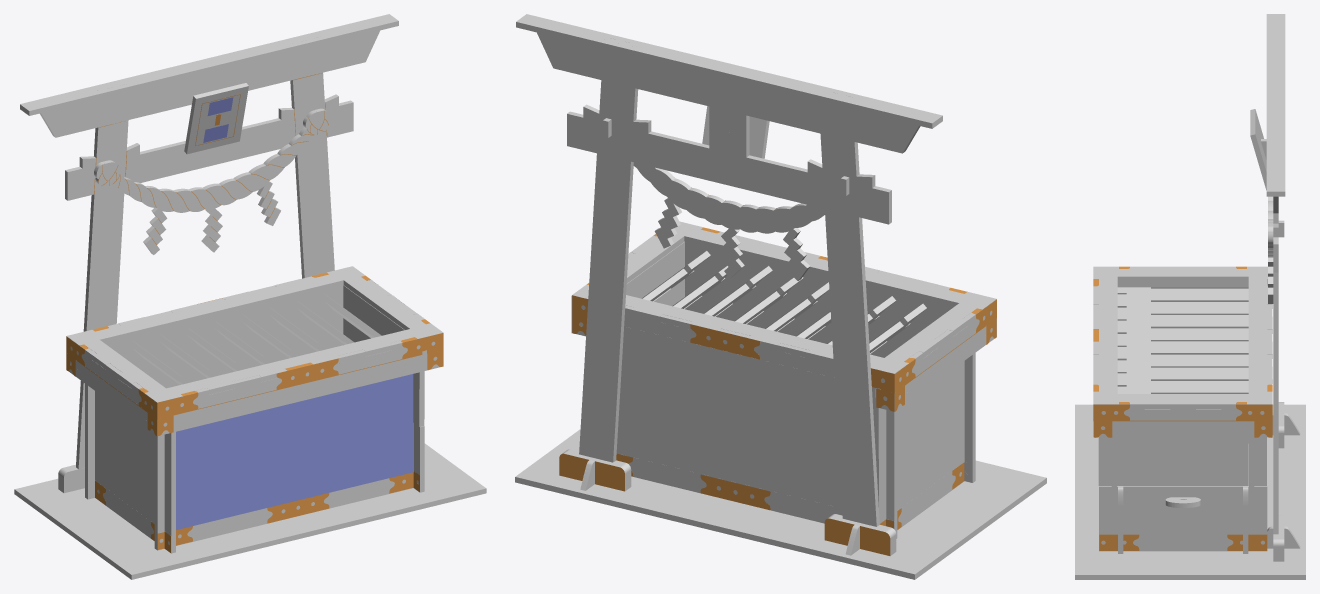
The model's file is saisenglb3.glb.
3 renders of one model, left to right at view 1: azimuth 30°, elevation 25°; view 2: azimuth 150°, elevation 25°; view 3: azimuth 270°, elevation 25°, orthographic. The views are drawn at different scales.
Visible parts, largest first — view 1: 本体.001, 刻印３(大きな文字), 本体.049, 本体.008, 本体, 本体.027, 茶色, 本体.025, 本体.004, 本体.024, 本体.009, 本体.002 (+4 smaller); view 2: 本体.001, 本体, 本体.049, 本体.008, 本体.002, 本体.027, 茶色, 本体.048, 本体.025, 本体.024, 本体.009, 本体.034 (+3 smaller); view 3: 本体.009, 本体.049, 本体.038, 本体.008, 本体.037, 本体.033, 本体.024, 茶色, 本体.001, 本体.027, 本体.005, 本体.025 (+7 smaller).
Part boxes in pixels (left/top/right/bottom): 本体.001: left=40, top=30, right=380, bottom=492; 刻印３(大きな文字): left=176, top=374, right=413, bottom=529; 本体.049: left=14, top=443, right=486, bottom=579; 本体.008: left=66, top=266, right=443, bottom=402; 本体: left=75, top=285, right=343, bottom=499; 本体.027: left=95, top=391, right=178, bottom=553; 茶色: left=66, top=73, right=443, bottom=552; 本体.025: left=94, top=108, right=330, bottom=254; 本体.004: left=157, top=338, right=443, bottom=435; 本体.024: left=20, top=14, right=398, bottom=115; 本体.009: left=132, top=293, right=381, bottom=385; 本体.002: left=145, top=371, right=424, bottom=550; 本体.001: left=537, top=32, right=920, bottom=553; 本体: left=616, top=345, right=907, bottom=538; 本体.049: left=515, top=429, right=1046, bottom=579; 本体.008: left=572, top=221, right=996, bottom=373; 本体.002: left=685, top=242, right=986, bottom=482; 本体.027: left=872, top=361, right=964, bottom=529; 茶色: left=559, top=187, right=996, bottom=555; 本体.048: left=572, top=301, right=897, bottom=411; 本体.025: left=633, top=162, right=824, bottom=280; 本体.024: left=516, top=14, right=942, bottom=128; 本体.009: left=642, top=251, right=926, bottom=353; 本体.034: left=894, top=310, right=996, bottom=409; 本体.009: left=1117, top=287, right=1248, bottom=393; 本体.049: left=1075, top=404, right=1305, bottom=579; 本体.038: left=1099, top=484, right=1267, bottom=551; 本体.008: left=1093, top=266, right=1272, bottom=408; 本体.037: left=1098, top=437, right=1266, bottom=485; 本体.033: left=1093, top=402, right=1266, bottom=437; 本体.024: left=1266, top=14, right=1285, bottom=196; 茶色: left=1093, top=266, right=1272, bottom=550; 本体.001: left=1273, top=48, right=1278, bottom=561; 本体.027: left=1117, top=281, right=1248, bottom=287; 本体.005: left=1250, top=109, right=1266, bottom=190; 本体.025: left=1268, top=196, right=1273, bottom=303.
Bounding box in the file's own units: 156 × 163 × 85.56.
